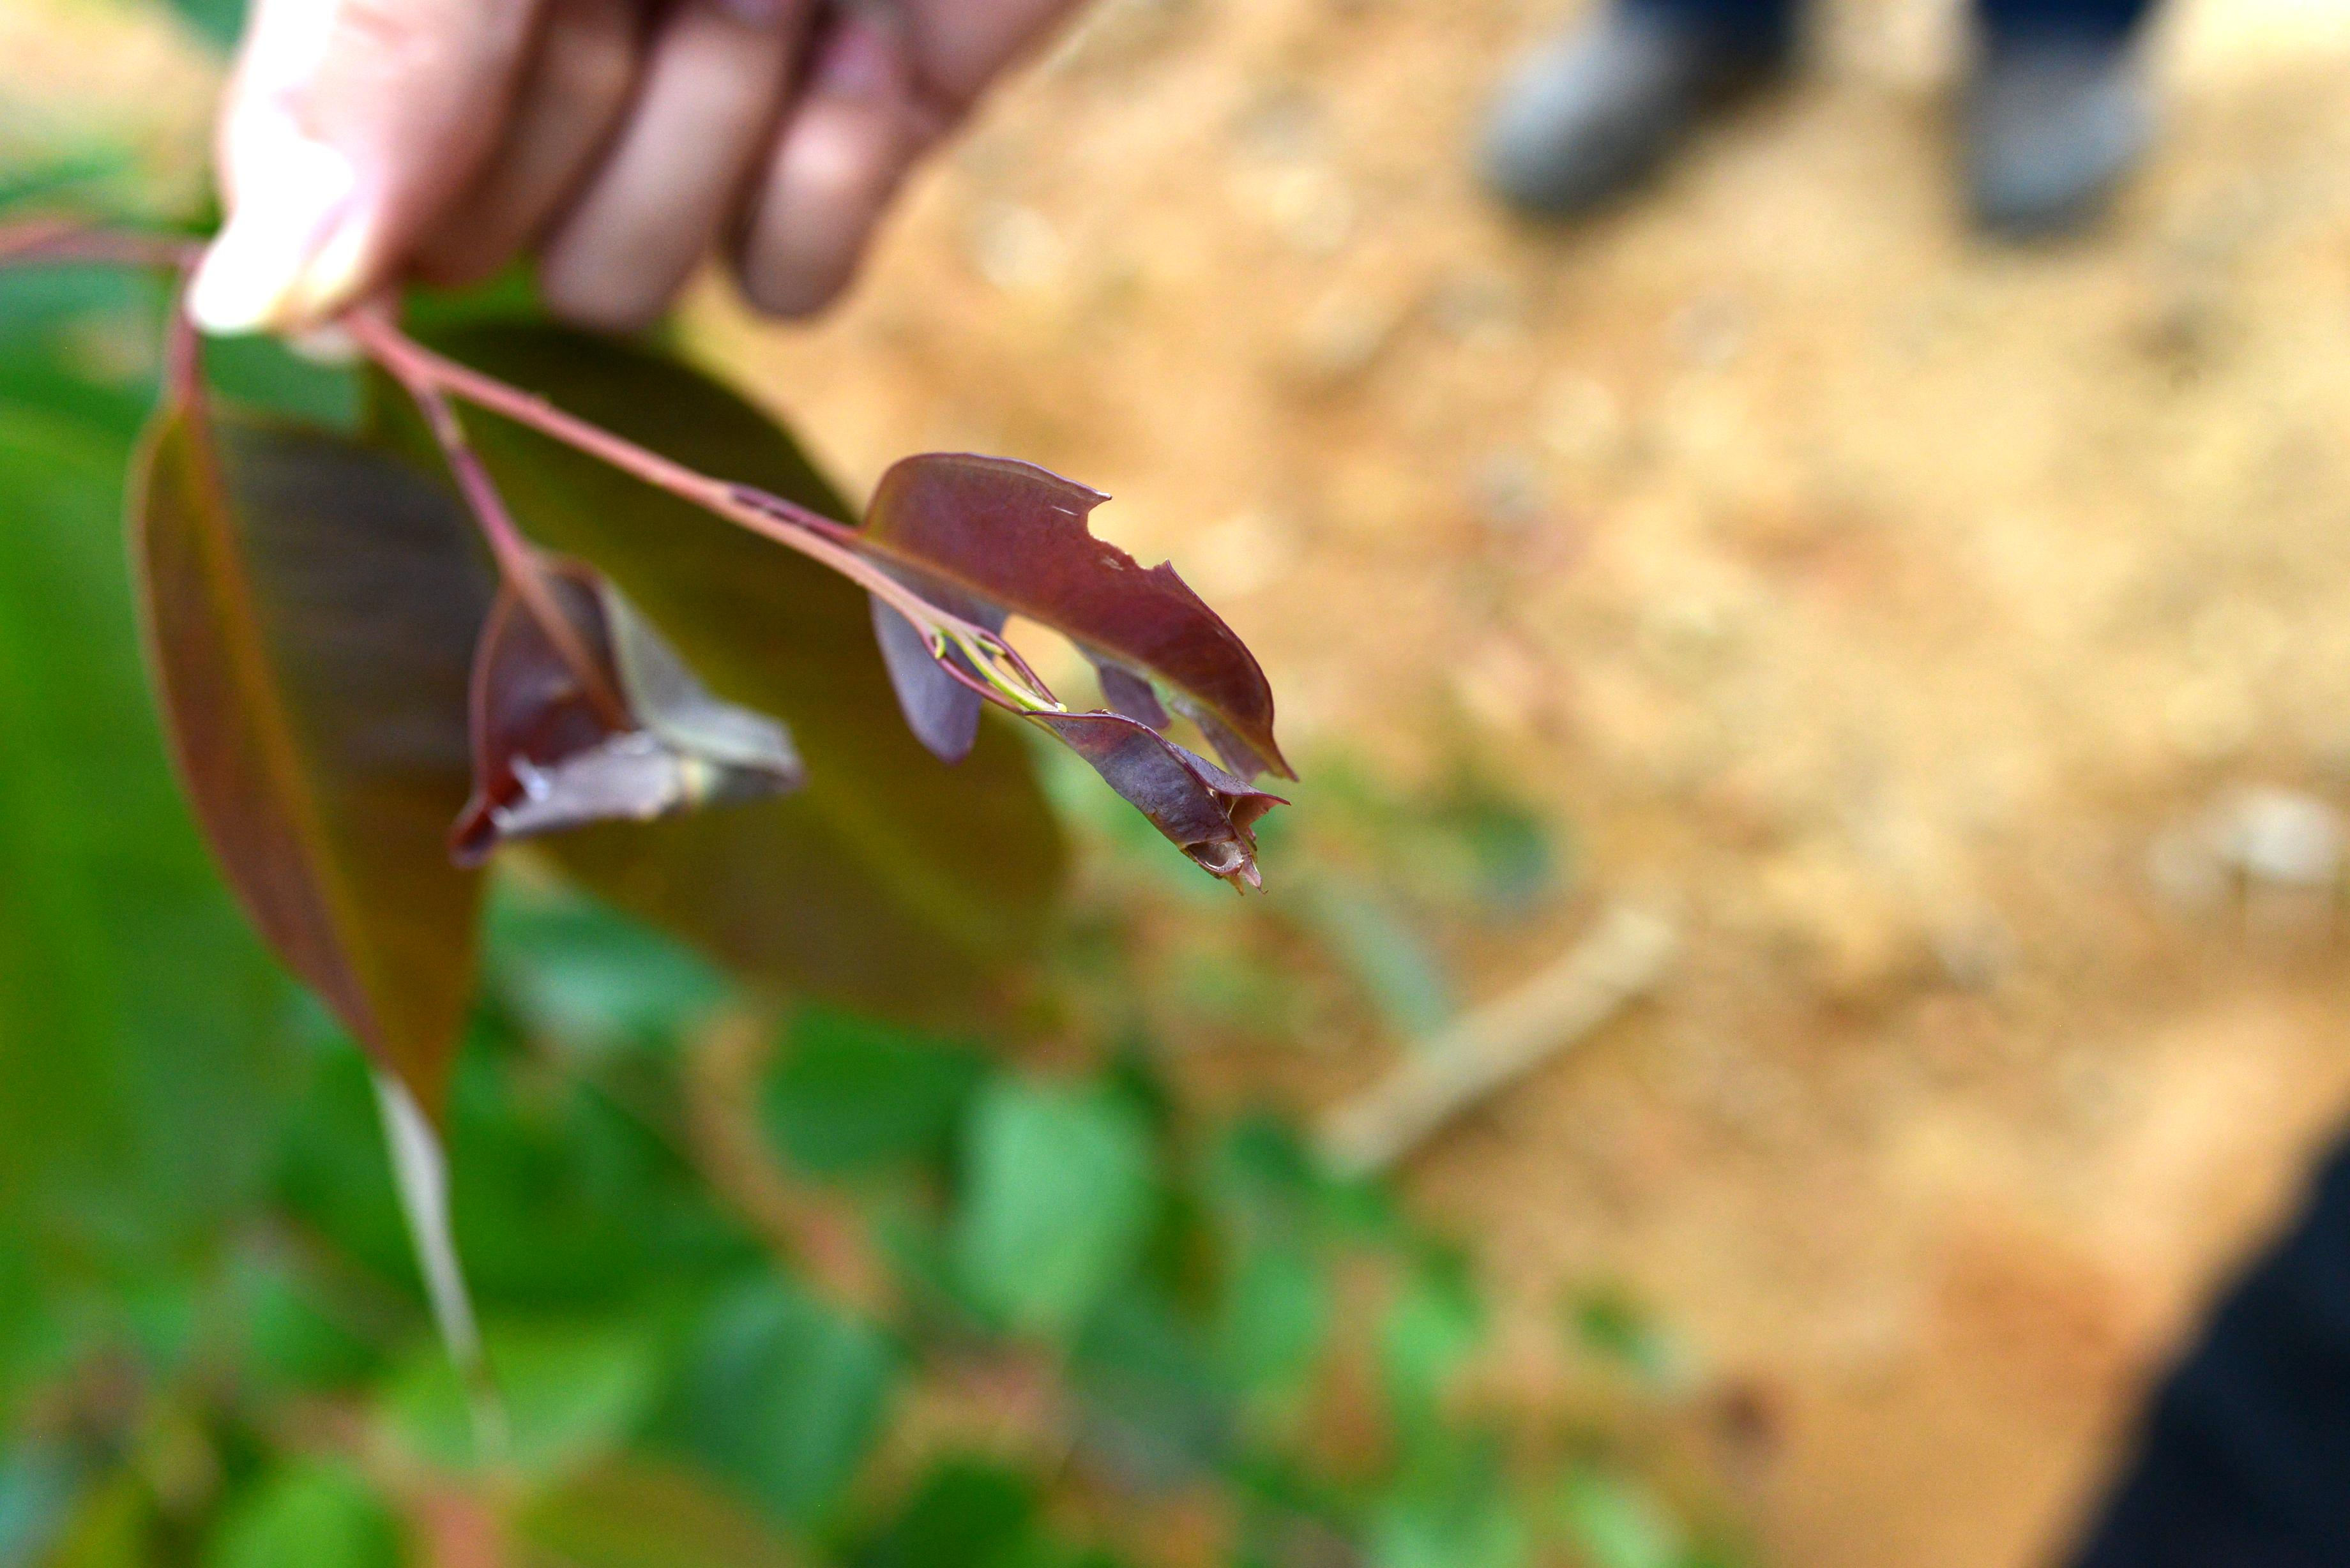Leaf Roller - Leaf: (847, 438, 1304, 903), (454, 534, 801, 873), (1003, 681, 1281, 914)
